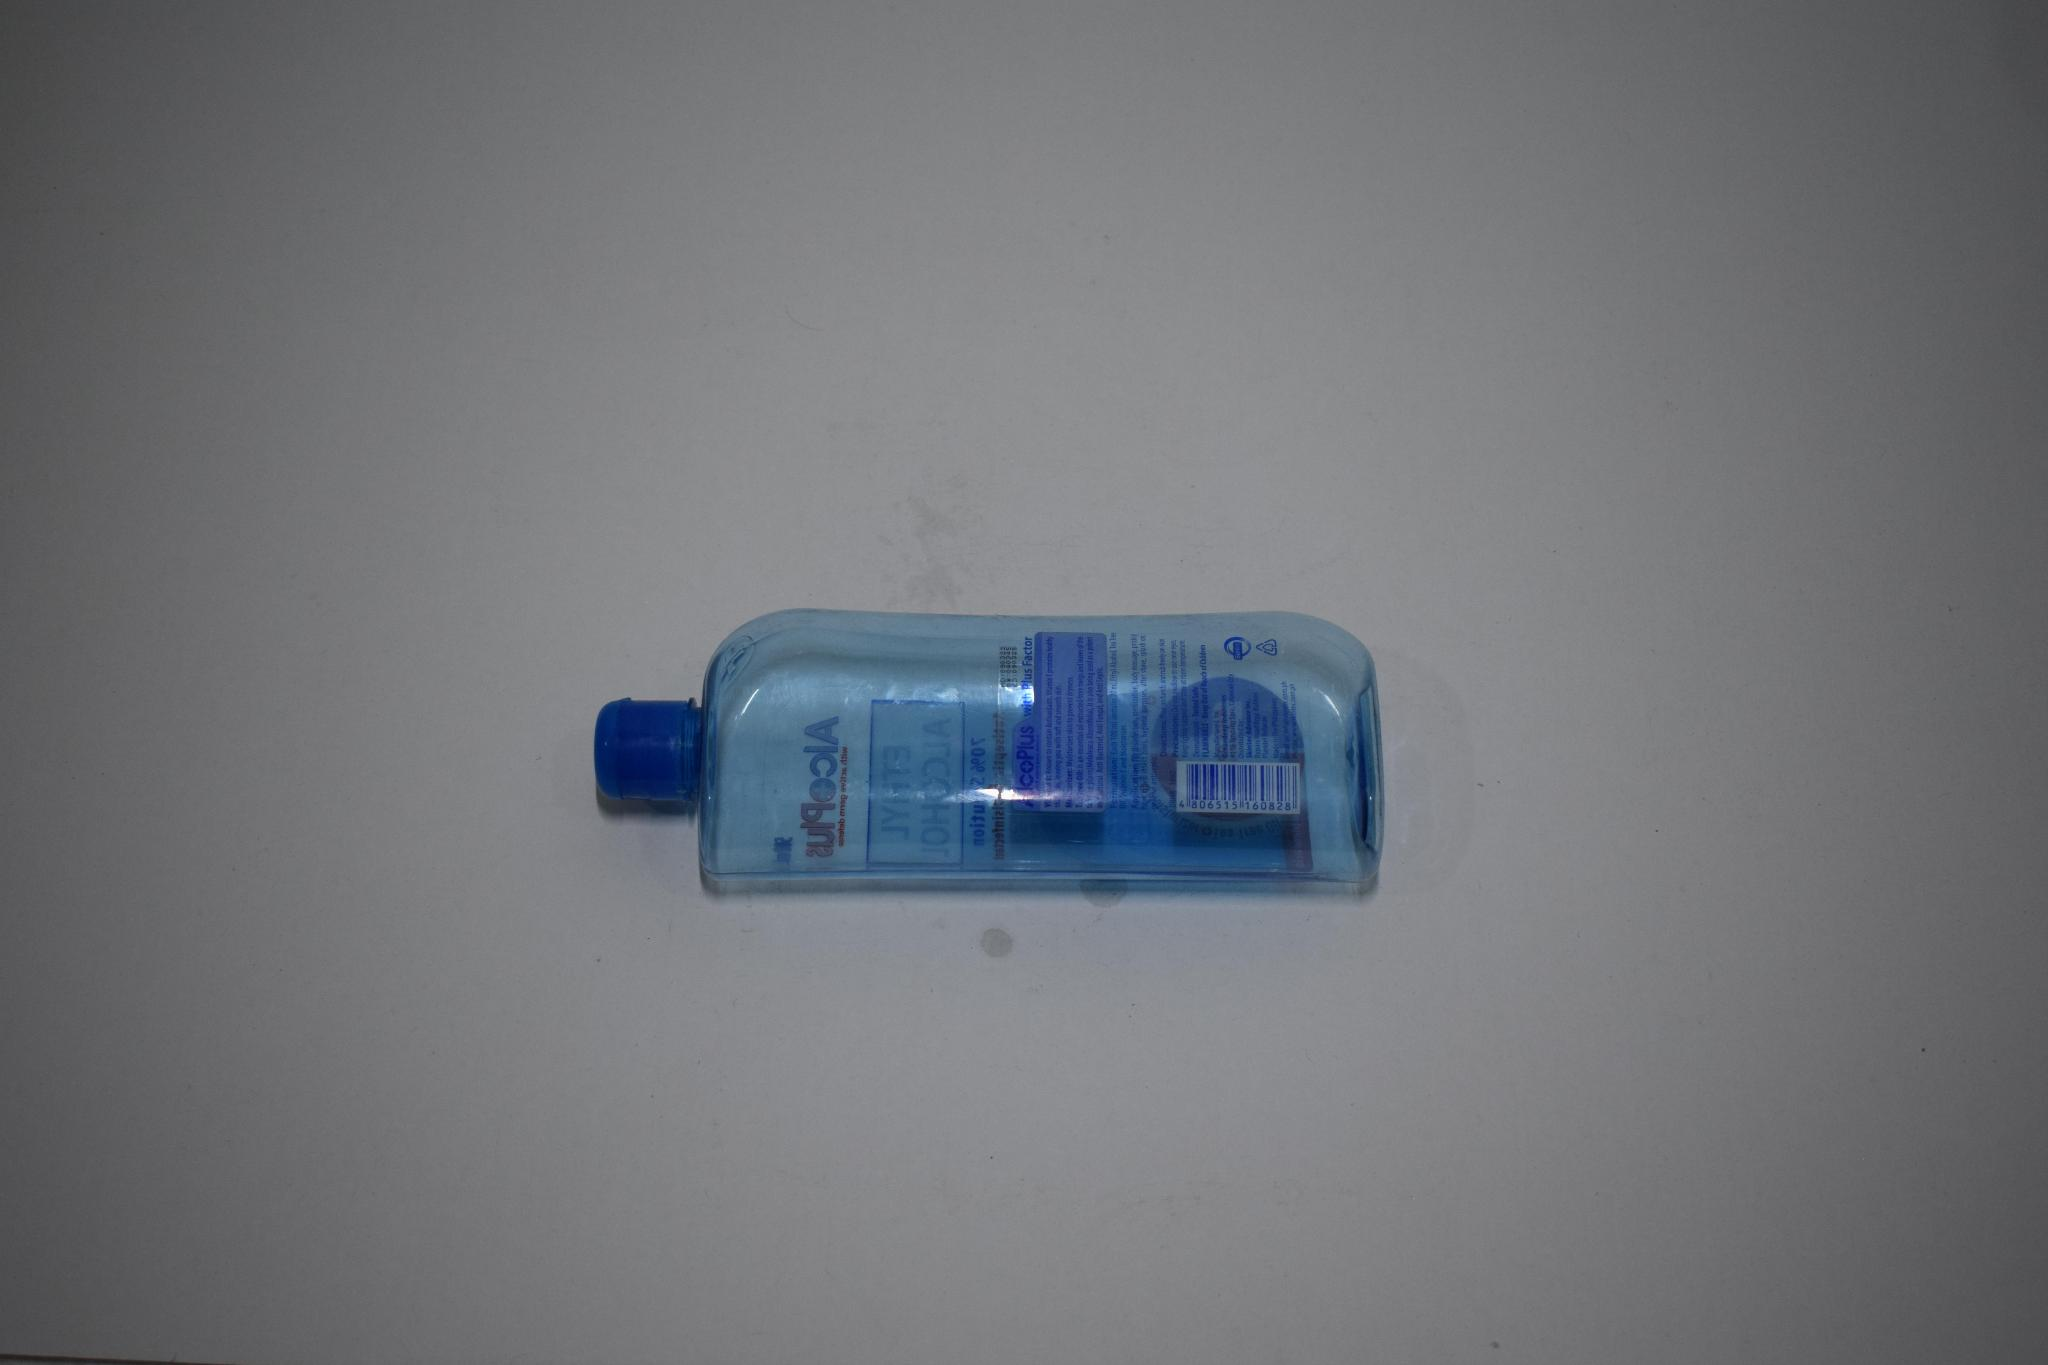bottle: (579, 603, 1416, 905)
